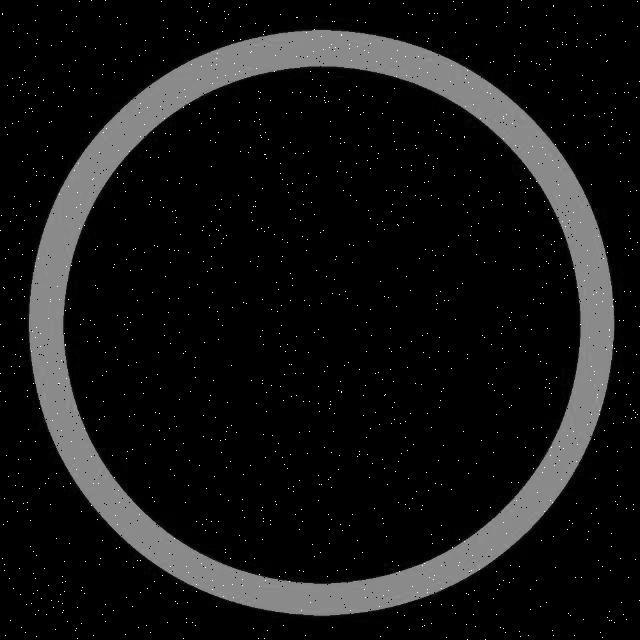Circle: (26, 27, 622, 626)
